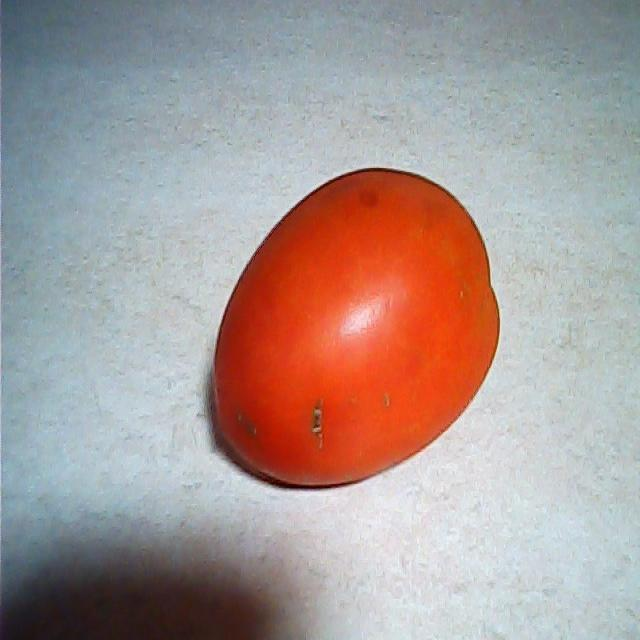maduro: (208, 163, 502, 492)
